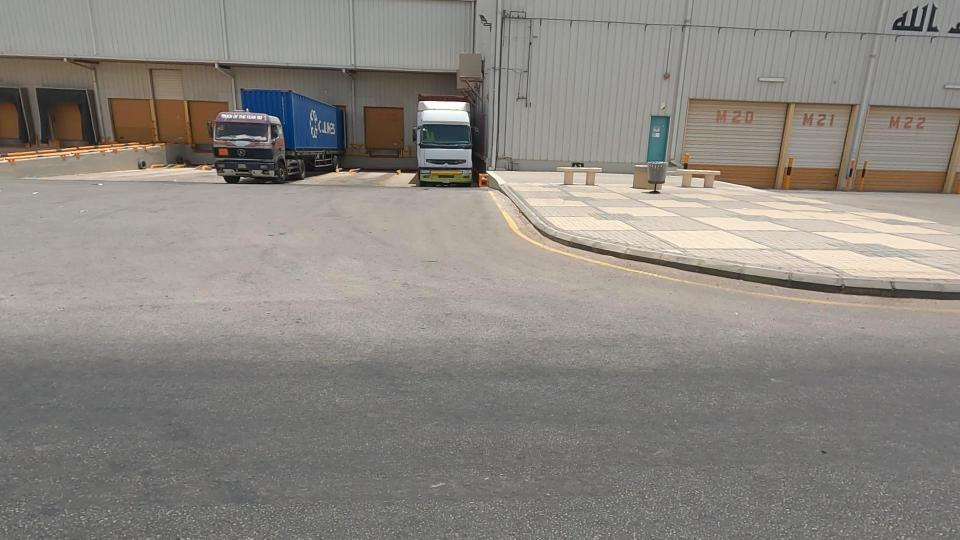GARBAGE: (108, 139, 171, 195), (160, 149, 198, 173)
